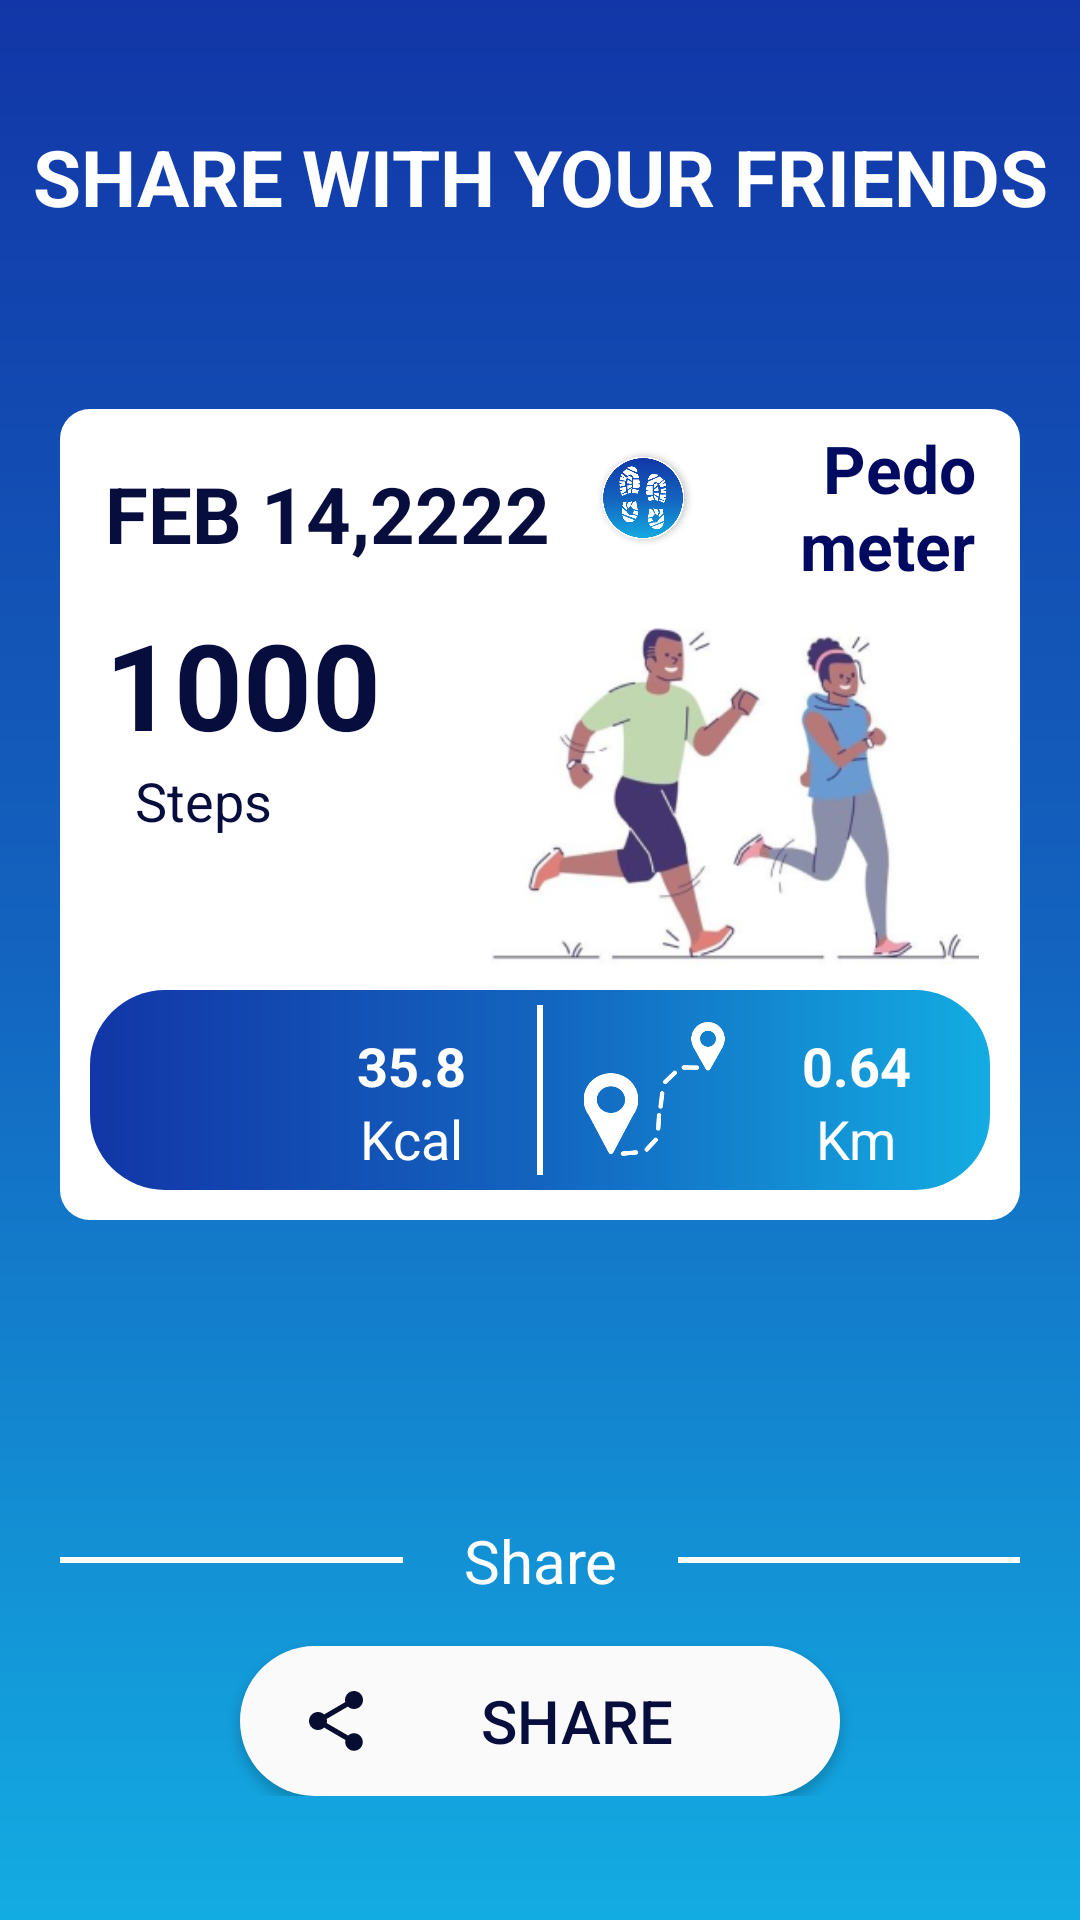

Named icons in this screenshot (1080 x 1920) and their bounding boxes, (x1, y1, x2, y2):
distance: (584, 1022, 738, 1157)
